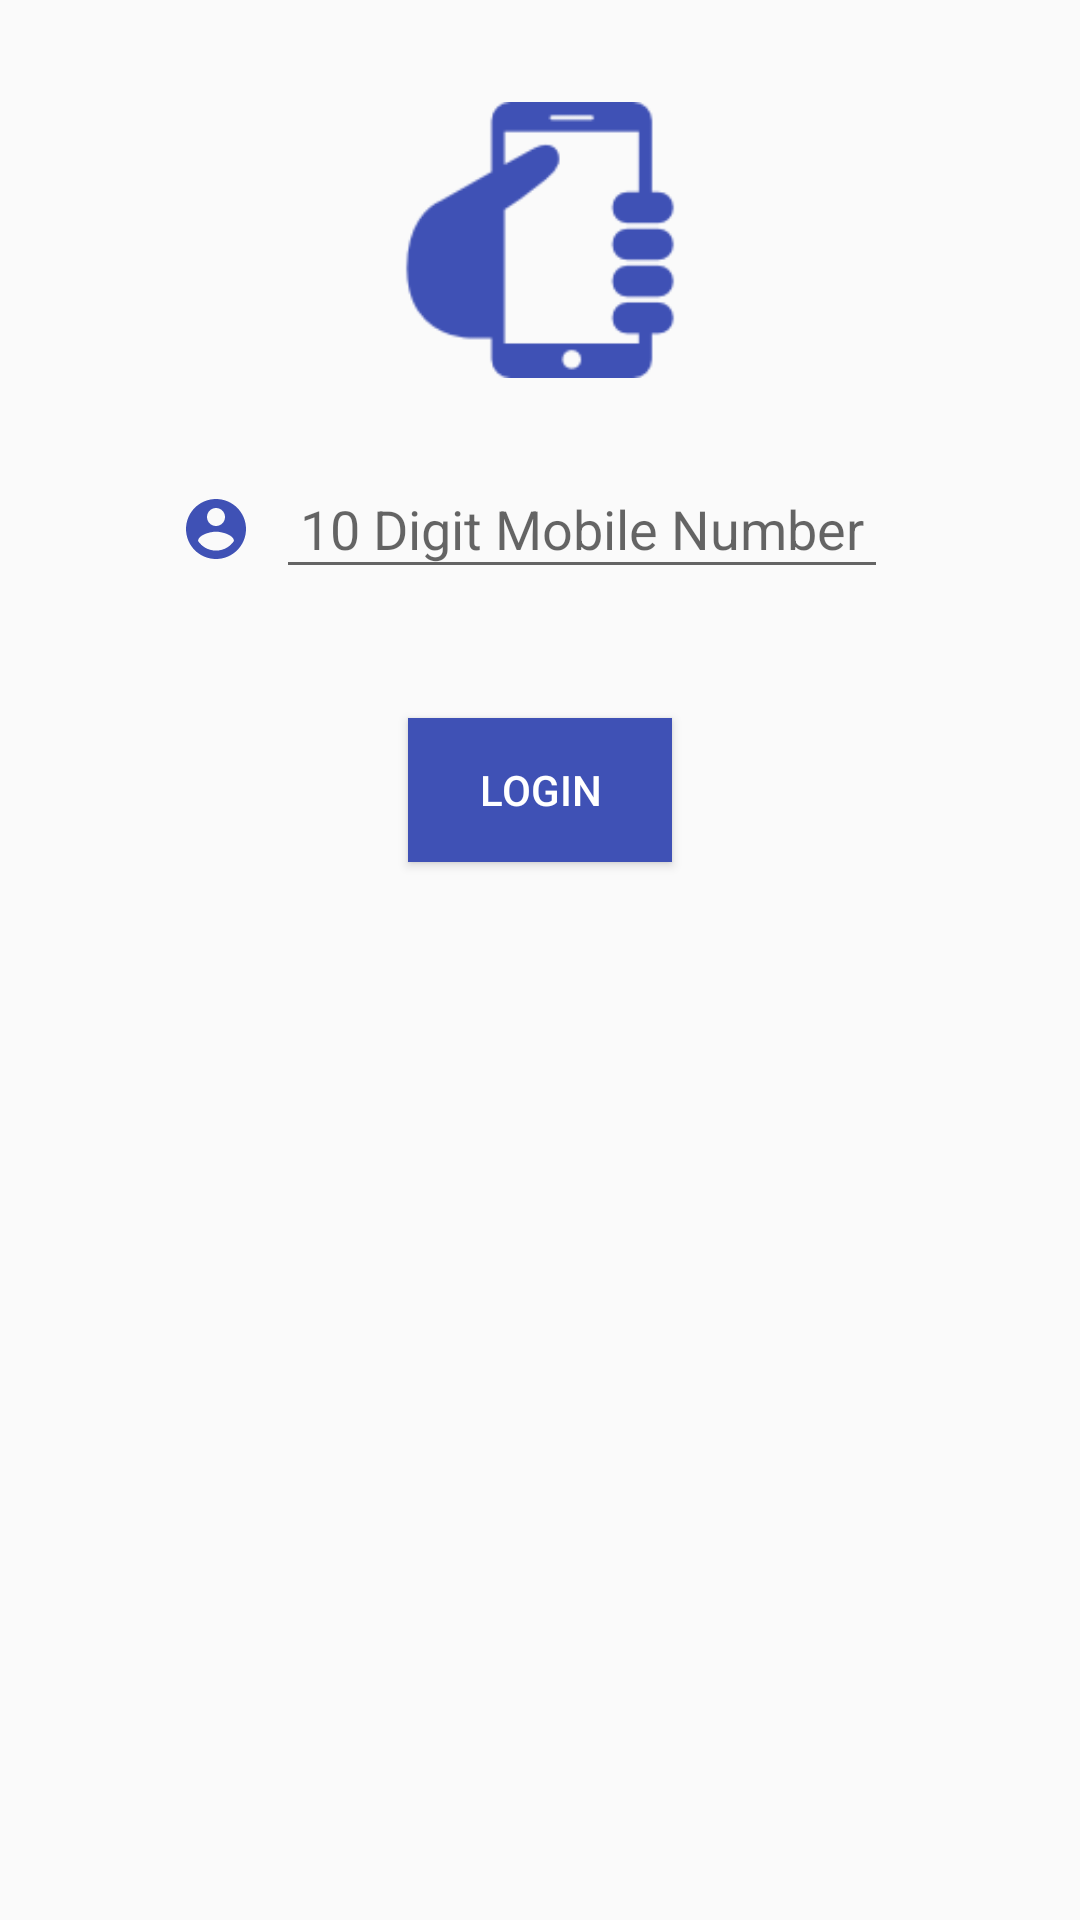

Icon bounding boxes for this 1080px x 1920px phone screenshot, format (x1, y1, x2, y2):
phone: (406, 102, 674, 378)
